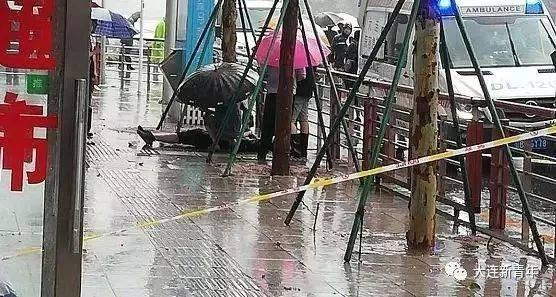Fall-Detected: (125, 115, 266, 156)
